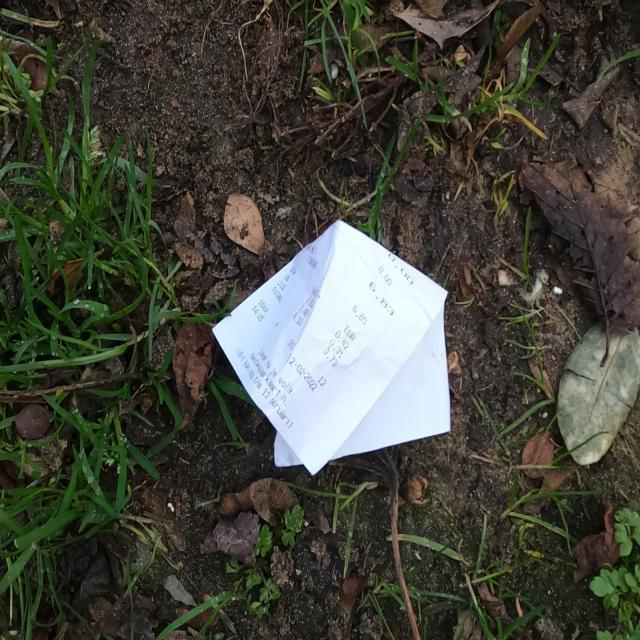Paper: (211, 216, 453, 478)
